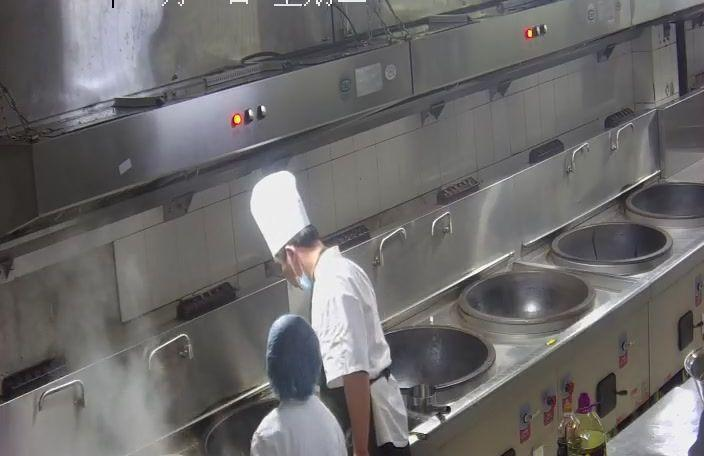mask: (280, 262, 312, 290)
